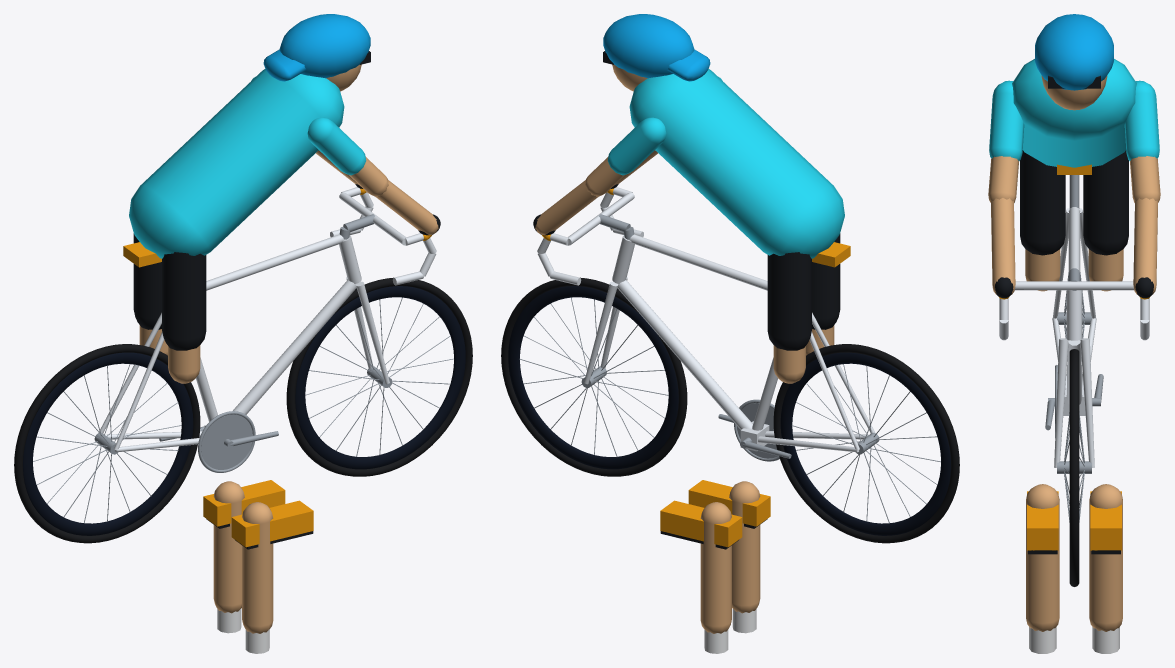
The model's file is velo-rider.glb.
The picture shows the model from 3 angles, left to right: view 1: azimuth 30°, elevation 25°; view 2: azimuth 150°, elevation 25°; view 3: azimuth 270°, elevation 25°; orthographic projection. The views are drawn at different scales.
Parts seen in each view (by area): view 1: riderBody-kit, frame-frame, wheelFront-wheel, wheelRear-wheel, riderBody-helmet, wheelRear-tyre, thighR-bib, wheelFront-tyre, shinR-skin, shinL-skin, crank-metal, riderBody-skin (+7 smaller); view 2: riderBody-kit, frame-frame, wheelFront-wheel, wheelRear-wheel, riderBody-helmet, wheelRear-tyre, thighL-bib, wheelFront-tyre, shinL-skin, shinR-skin, riderBody-skin, footL-accent (+7 smaller); view 3: riderBody-kit, frame-frame, riderBody-skin, riderBody-helmet, thighL-bib, thighR-bib, shinL-skin, shinR-skin, wheelFront-tyre, footL-accent, footR-accent, thighL-skin (+9 smaller).
Boxes of the visible parts, x1,y1,x2,y2 form: riderBody-kit: (129,69,366,258); frame-frame: (99,187,436,452); wheelFront-wheel: (295,286,465,469); wheelRear-wheel: (23,352,193,535); riderBody-helmet: (263,14,370,81); wheelRear-tyre: (14,344,200,543); thighR-bib: (162,252,206,350); wheelFront-tyre: (286,277,472,476); shinR-skin: (242,502,273,633); shinL-skin: (213,481,244,613); crank-metal: (159,411,278,472); riderBody-skin: (316,64,438,235); riderBody-kit: (607,69,844,258); frame-frame: (537,187,875,452); wheelFront-wheel: (508,286,678,469); wheelRear-wheel: (780,352,950,535); riderBody-helmet: (603,14,710,81); wheelRear-tyre: (773,344,959,543); thighL-bib: (767,252,811,350); wheelFront-tyre: (501,277,687,476); shinL-skin: (700,502,731,633); shinR-skin: (729,481,760,613); riderBody-skin: (535,64,657,235); footL-accent: (660,500,742,547); riderBody-kit: (989,59,1159,167); frame-frame: (999,207,1149,467); riderBody-skin: (988,75,1160,294); riderBody-helmet: (1035,14,1113,90); thighL-bib: (1083,150,1128,255); thighR-bib: (1020,150,1065,255); shinL-skin: (1089,484,1122,631); shinR-skin: (1026,484,1059,631); wheelFront-tyre: (1069,349,1079,586); footL-accent: (1090,491,1121,550); footR-accent: (1027,491,1058,550); thighL-skin: (1088,249,1123,291).
Bounding box in the file's own units: 1.68 × 2.1 × 0.4893.
